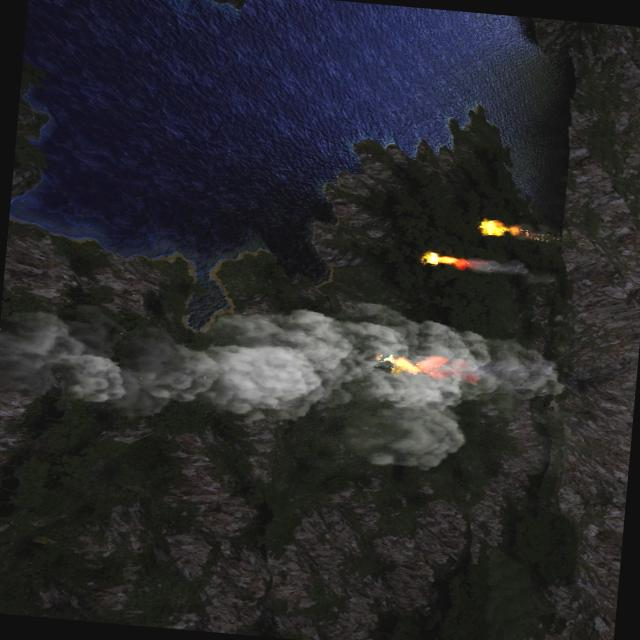fire: (378, 350, 449, 380), (422, 250, 468, 270), (476, 218, 508, 237)
smoke: (0, 278, 560, 483), (464, 256, 550, 284), (508, 222, 568, 245)
